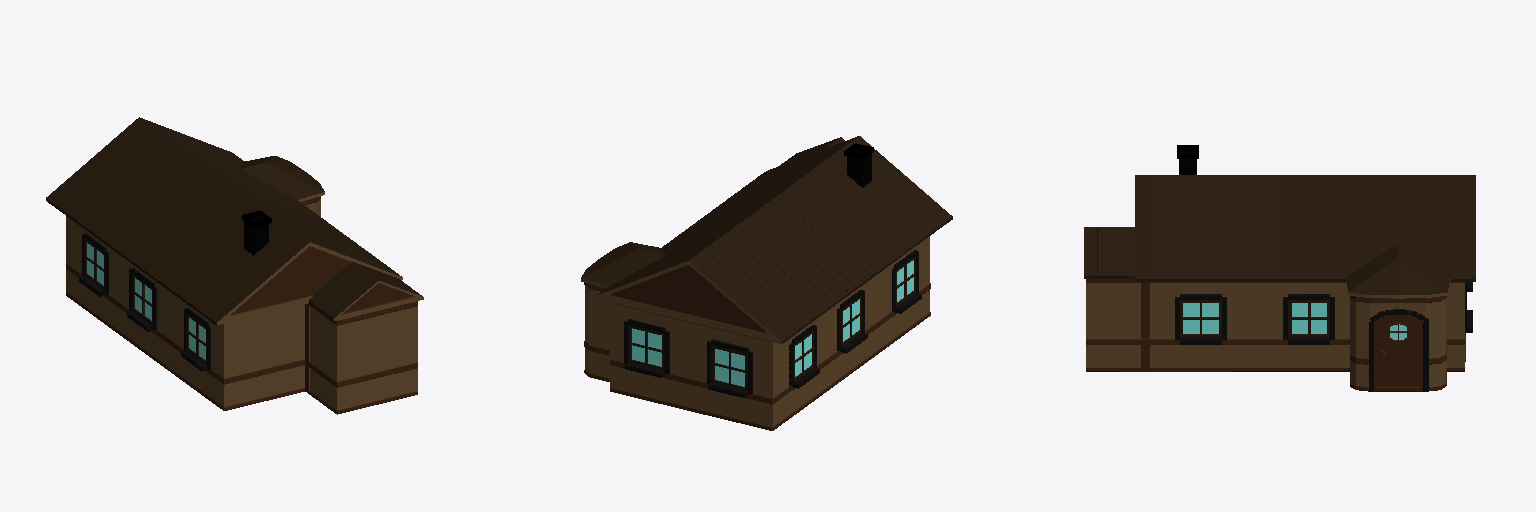
File: Farm.obj
3 views of the same model, side by side, from view 1: azimuth 30°, elevation 25°; view 2: azimuth 150°, elevation 25°; view 3: azimuth 270°, elevation 25° (orthographic).
Visible parts, largest first — view 1: Mesh; view 2: Mesh; view 3: Mesh.
Boxes of the visible parts, x1=… form: Mesh: x1=46, y1=117, x2=423, y2=414; Mesh: x1=581, y1=136, x2=952, y2=430; Mesh: x1=1084, y1=145, x2=1475, y2=391.
Bounding box in the file's own units: 22.22 × 15.88 × 33.64.